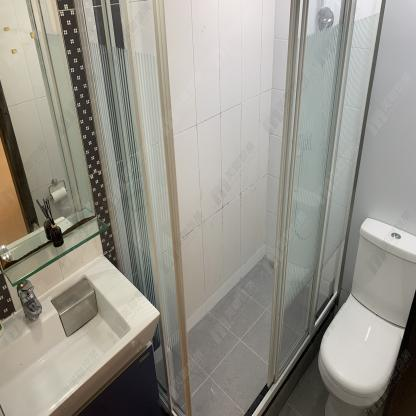Toilet: (318, 217, 416, 416)
Toilet Sink: (1, 252, 161, 416)
